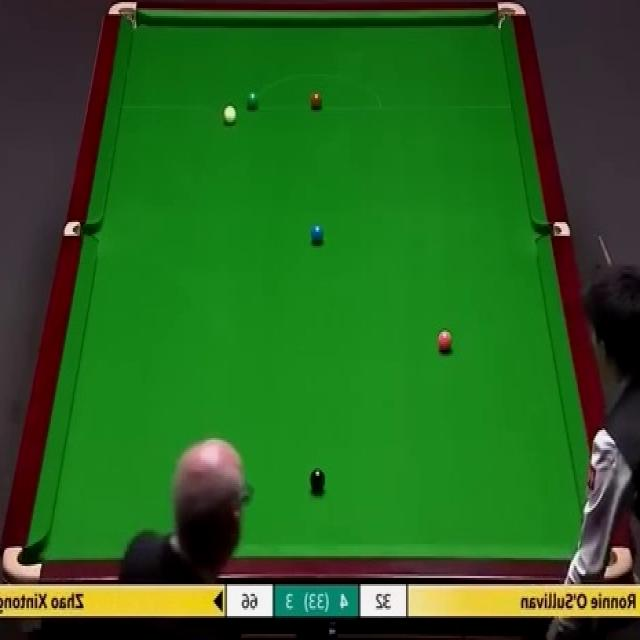pocket: (2, 544, 42, 583), (107, 2, 138, 32), (496, 1, 528, 30), (607, 546, 633, 579), (536, 221, 570, 240), (64, 222, 98, 240)
